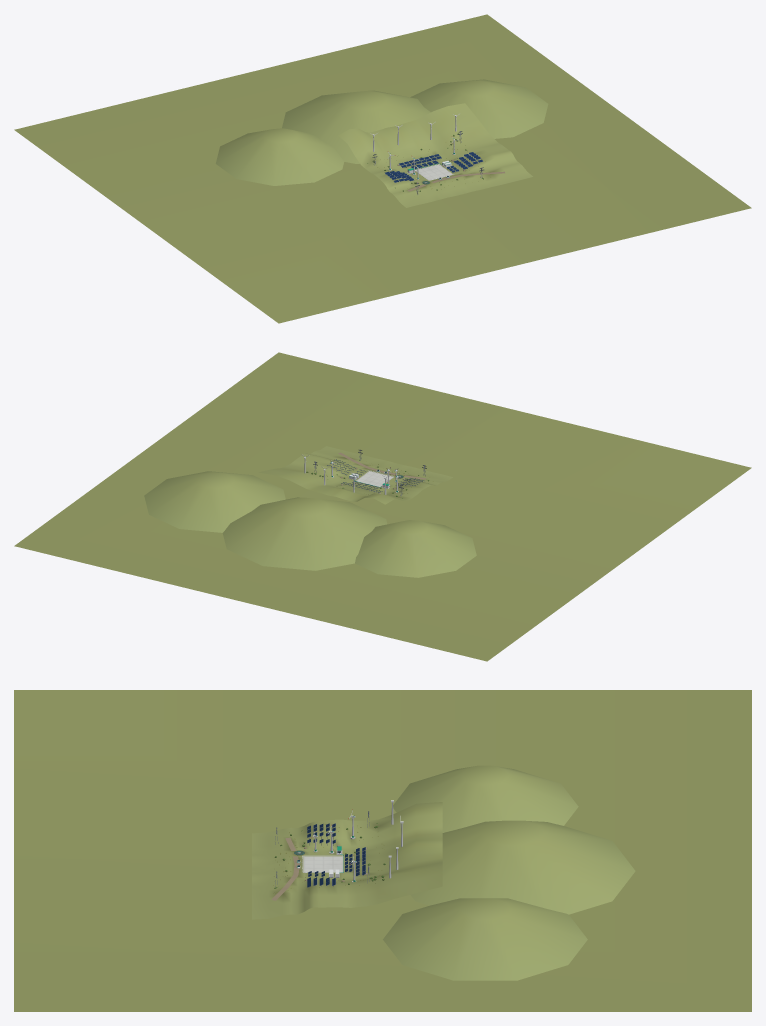
The picture shows the model from 3 angles, top to bottom: view 1: azimuth 30°, elevation 25°; view 2: azimuth 150°, elevation 25°; view 3: azimuth 270°, elevation 25°; orthographic projection. The views are drawn at different scales.
Visible parts, largest first — view 1: onshore_terrain, platform_base; view 2: onshore_terrain, platform_base; view 3: onshore_terrain, platform_base.
Part boxes in pixels (x1,y1,x2,y2): onshore_terrain: [14, 14, 751, 323]; platform_base: [338, 103, 532, 207]; onshore_terrain: [14, 352, 751, 661]; platform_base: [258, 446, 452, 504]; onshore_terrain: [14, 690, 751, 1011]; platform_base: [252, 800, 442, 919].
Bounding box in the file's own units: 160 × 11.74 × 155.
